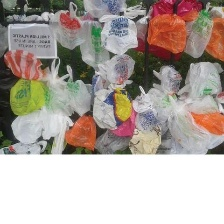plastic_bag: (8, 56, 74, 147), (159, 92, 209, 155), (183, 94, 224, 150), (88, 83, 134, 131), (175, 59, 224, 102), (177, 5, 214, 61), (75, 16, 112, 71), (144, 10, 187, 55), (91, 50, 138, 90), (61, 61, 93, 117), (99, 12, 138, 55), (7, 76, 48, 115), (50, 4, 86, 48), (132, 79, 165, 124), (61, 111, 99, 150), (123, 123, 167, 155), (4, 48, 46, 79), (81, 0, 146, 19), (91, 129, 131, 159), (48, 113, 72, 162), (150, 63, 183, 95), (187, 108, 223, 137), (202, 12, 223, 57), (0, 136, 48, 155)
